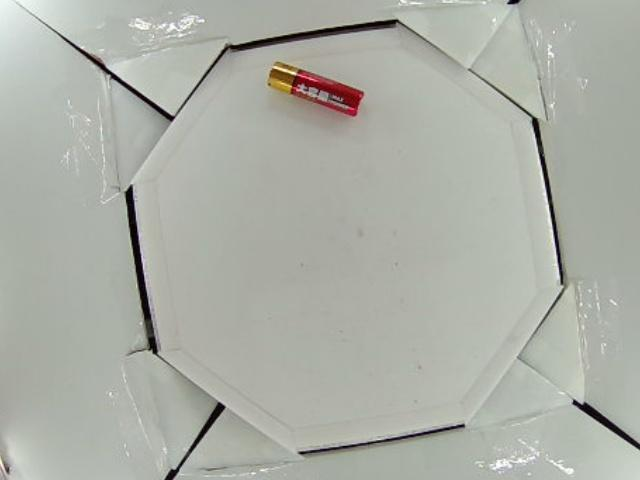Battery: (267, 60, 365, 116)
